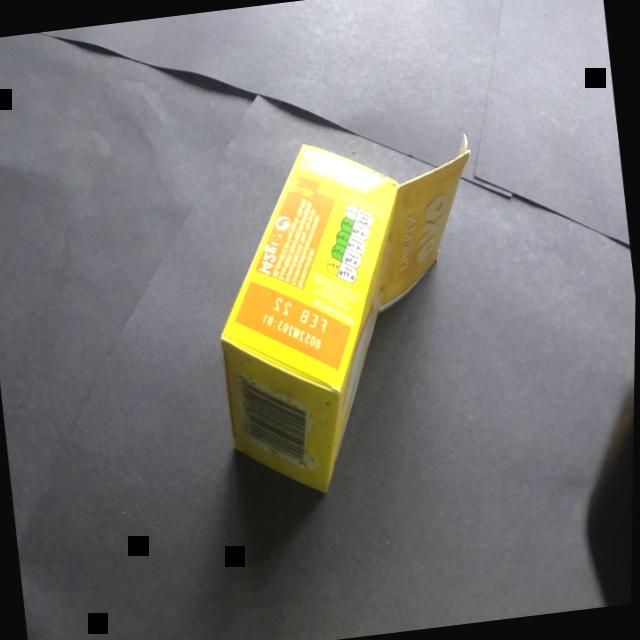Chickenstock: (163, 74, 529, 529)
